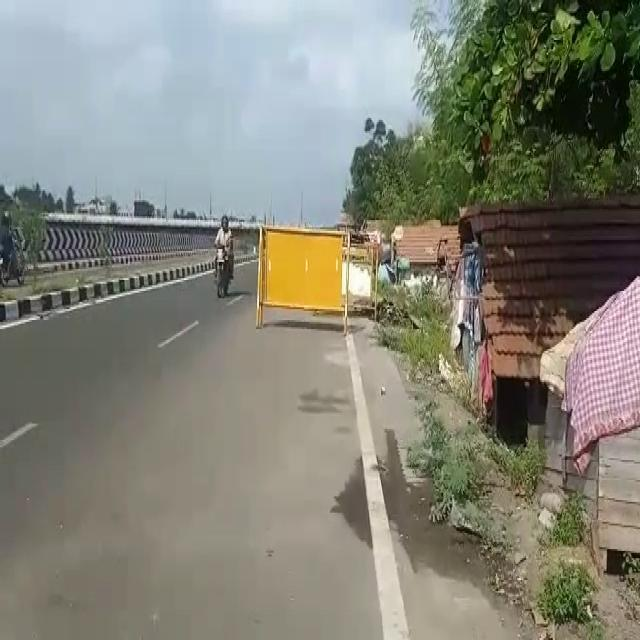fallen_object: (249, 213, 354, 346)
